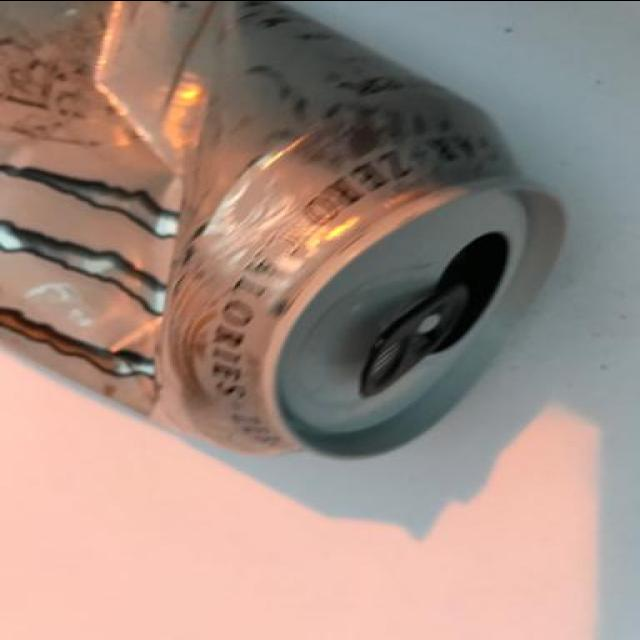litter: (2, 1, 578, 522)
